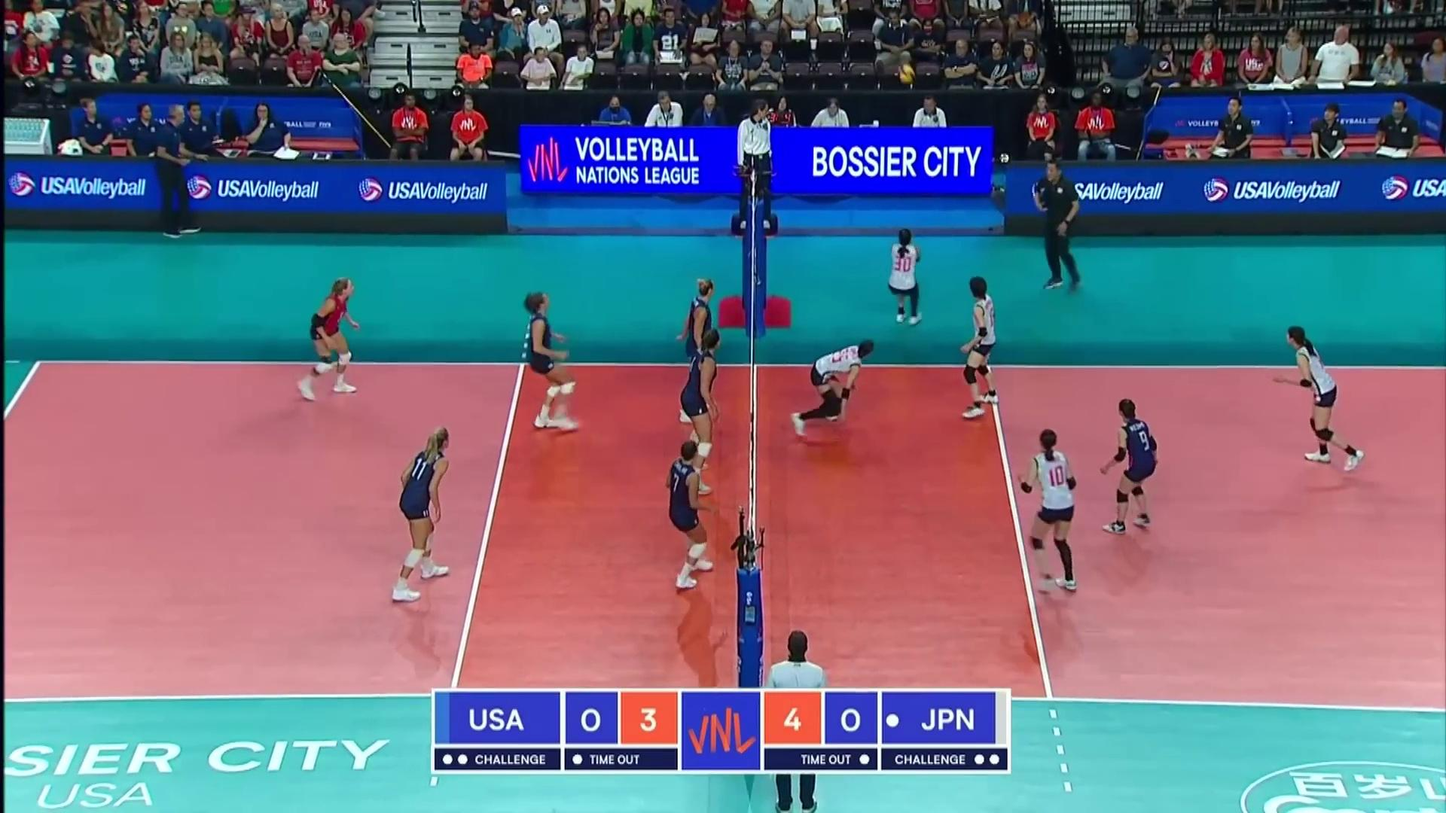player: (1272, 326, 1366, 471), (384, 428, 454, 598), (1019, 430, 1079, 597), (521, 291, 582, 431), (793, 337, 874, 437), (298, 277, 362, 402), (1102, 397, 1161, 532), (677, 332, 721, 496), (666, 443, 713, 591), (952, 275, 999, 419), (677, 281, 721, 421), (886, 229, 923, 325)
refree: (758, 627, 825, 813), (732, 102, 780, 230)
